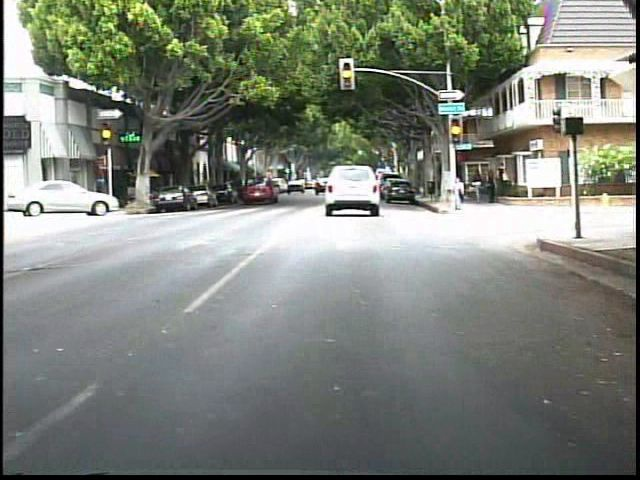person: (447, 174, 469, 213), (470, 169, 486, 204), (495, 160, 510, 196), (484, 167, 497, 205)
